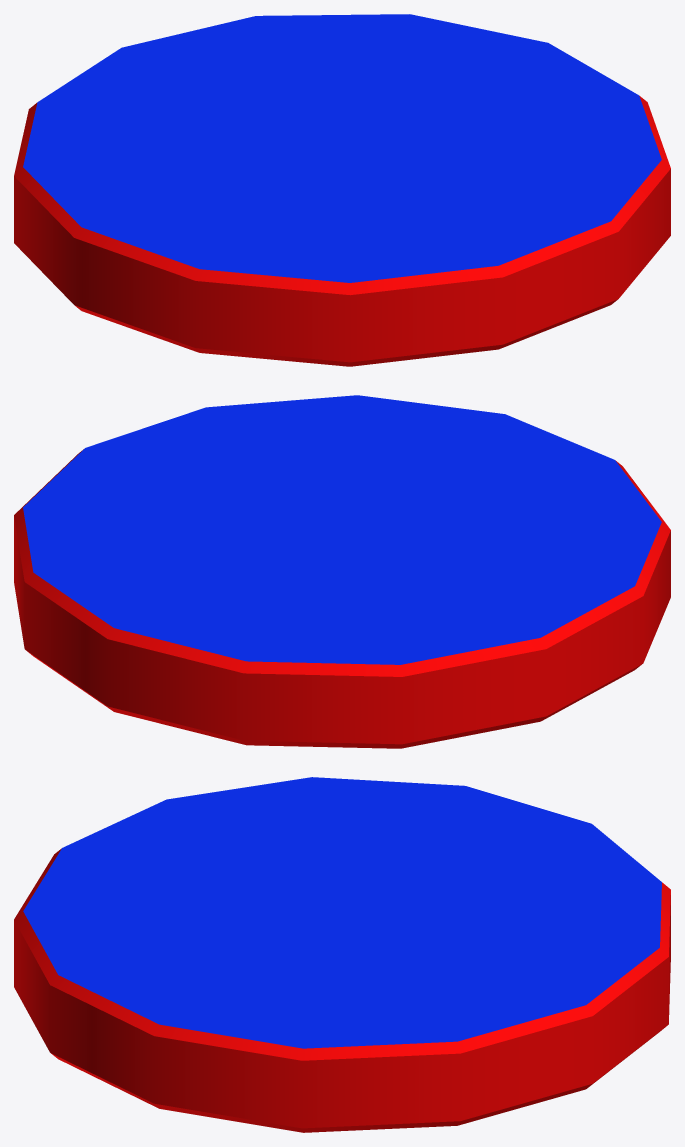
Rendered from Bumper_Top.fbx.
3 views of the same model, one above another, from view 1: azimuth 30°, elevation 25°; view 2: azimuth 150°, elevation 25°; view 3: azimuth 270°, elevation 25° (orthographic).
Parts seen in each view (by area): view 1: Bumper_Top; view 2: Bumper_Top; view 3: Bumper_Top.
Part boxes in pixels (x1,y1,x2,y2): Bumper_Top: (14,14,670,366); Bumper_Top: (14,395,670,748); Bumper_Top: (14,777,670,1132).
Bounding box in the file's own units: 154 × 21.63 × 153.
